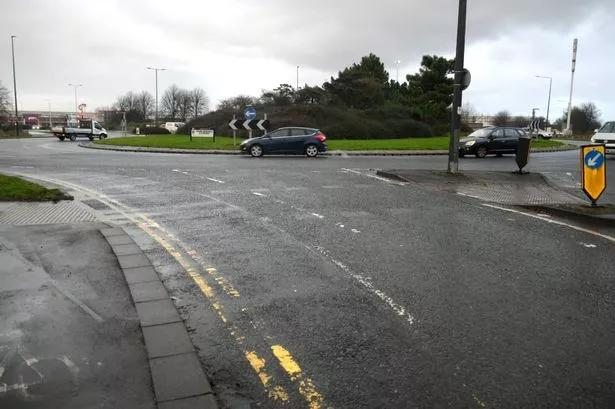faded_road_lines: (11, 151, 615, 409)
